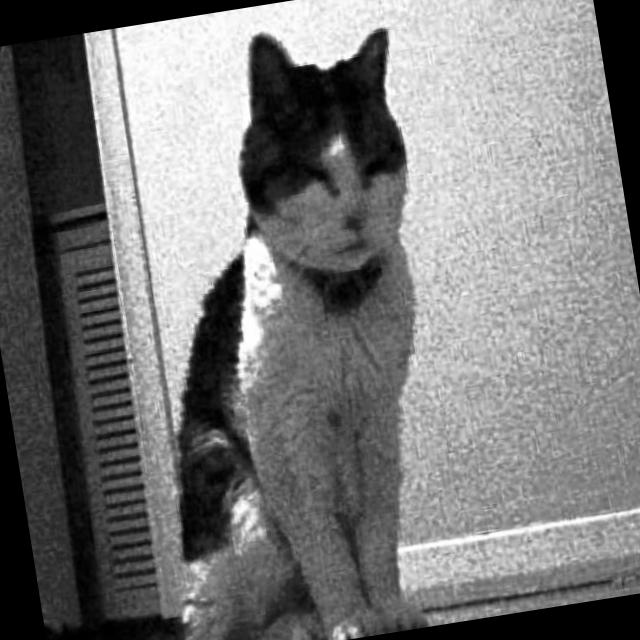Cat: (85, 1, 492, 640)
